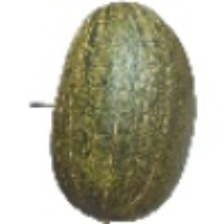honeydew: (14, 3, 194, 184)
